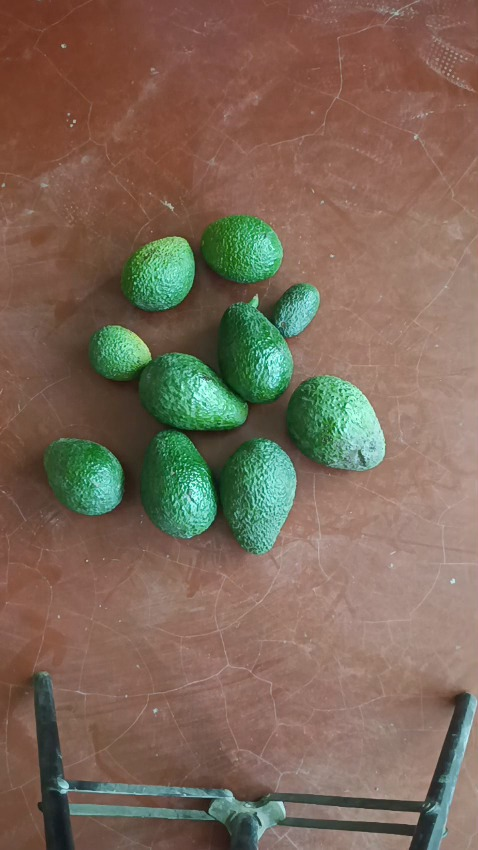Primera: (286, 376, 385, 470), (219, 438, 297, 552), (138, 353, 249, 431), (139, 429, 218, 538), (217, 296, 293, 404)
Segunda: (43, 437, 125, 516), (200, 215, 283, 284), (120, 236, 196, 311)
Tercera: (88, 325, 152, 382), (269, 283, 319, 338)
